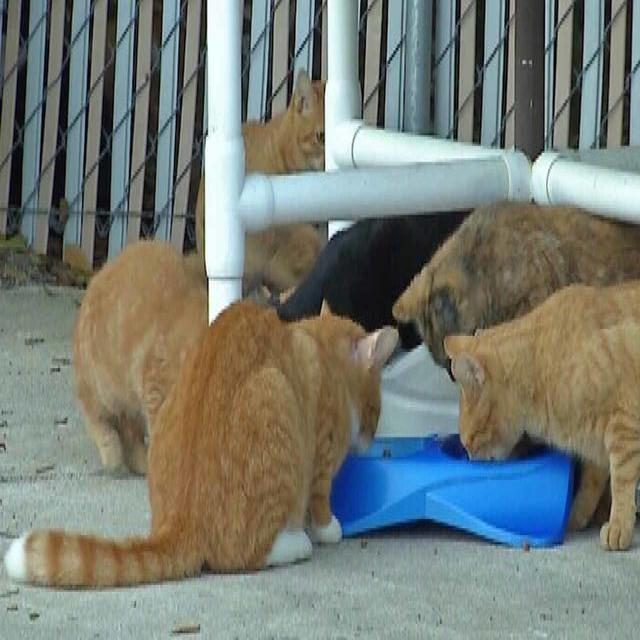cat: (21, 302, 395, 586), (445, 280, 640, 549), (394, 202, 640, 366), (72, 242, 208, 473), (278, 214, 466, 330), (242, 69, 324, 172), (246, 224, 320, 293)
